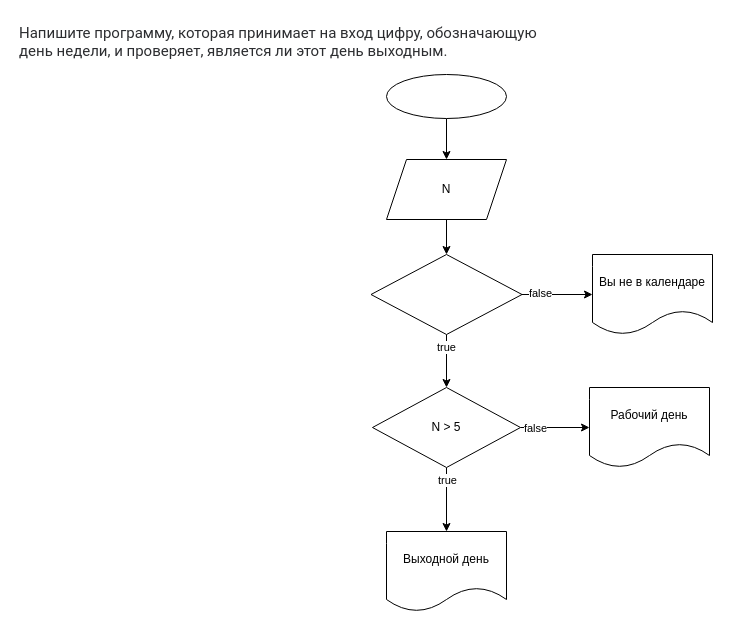
Some shapes in this 730 by 629 pixel diagram are drawn without their labels. Each missing label, with the centre of its shape:
1 < = N < = 7: (446,294)
start: (446,96)
